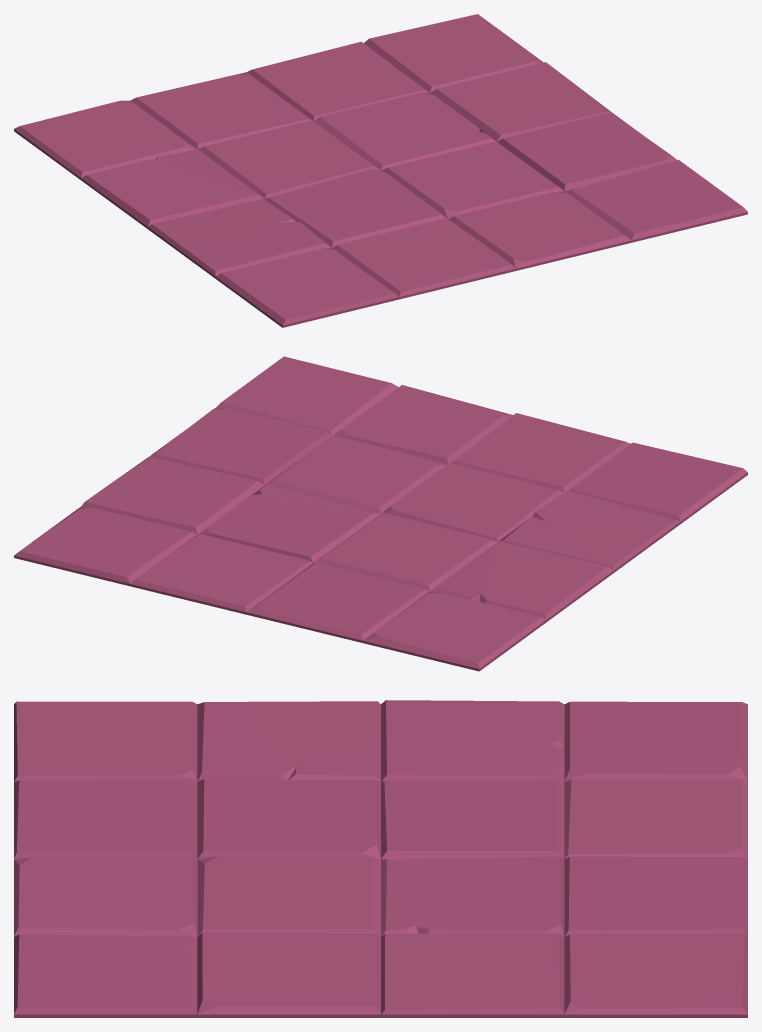
Rendered from Floor Pink.fbx.
3 views of the same model, one above another, from view 1: azimuth 30°, elevation 25°; view 2: azimuth 150°, elevation 25°; view 3: azimuth 270°, elevation 25° (orthographic). The views are drawn at different scales.
Visible parts, largest first — view 1: polySurface4; view 2: polySurface4; view 3: polySurface4.
Part boxes in pixels (x1,y1,x2,y2): polySurface4: [14, 14, 747, 327]; polySurface4: [14, 356, 747, 671]; polySurface4: [14, 700, 747, 1017].
Bounding box in the file's own units: 400 × 6.42 × 400.
